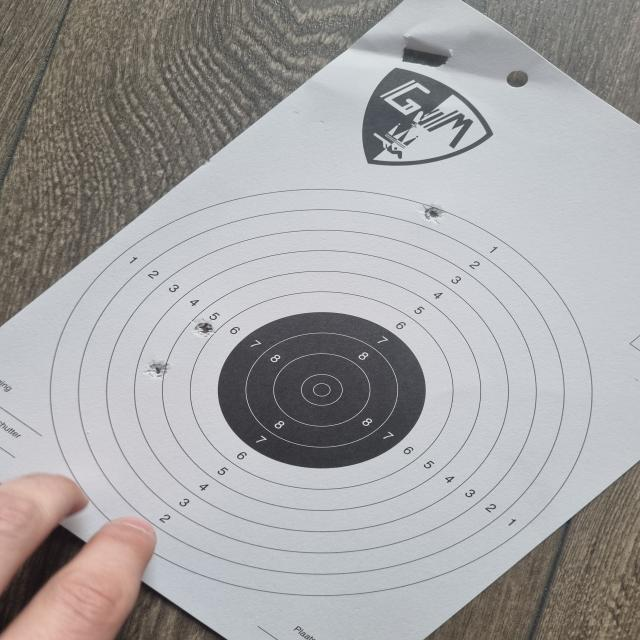1: (421, 204, 447, 224)
5: (147, 362, 170, 378), (195, 322, 213, 337)
Target: (49, 188, 596, 595)
black_contour: (217, 311, 429, 468)
